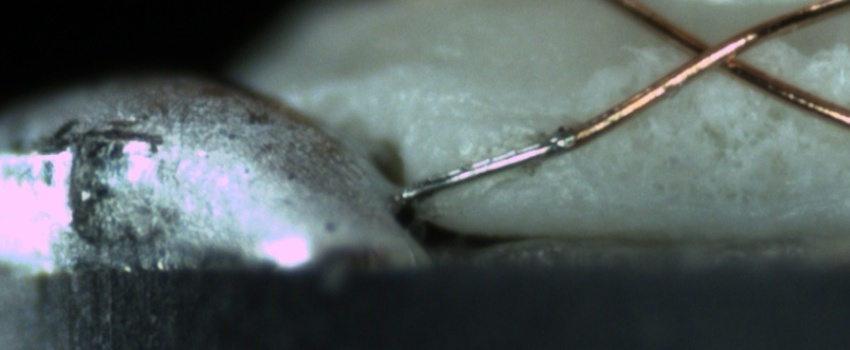CL: (664, 20, 760, 83)
DL: (411, 93, 581, 141)
TS: (399, 130, 572, 200)
